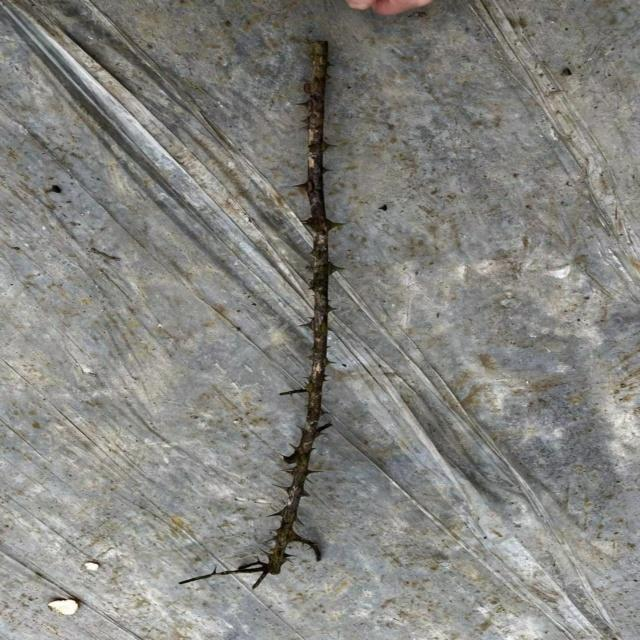branch: (262, 42, 334, 576)
